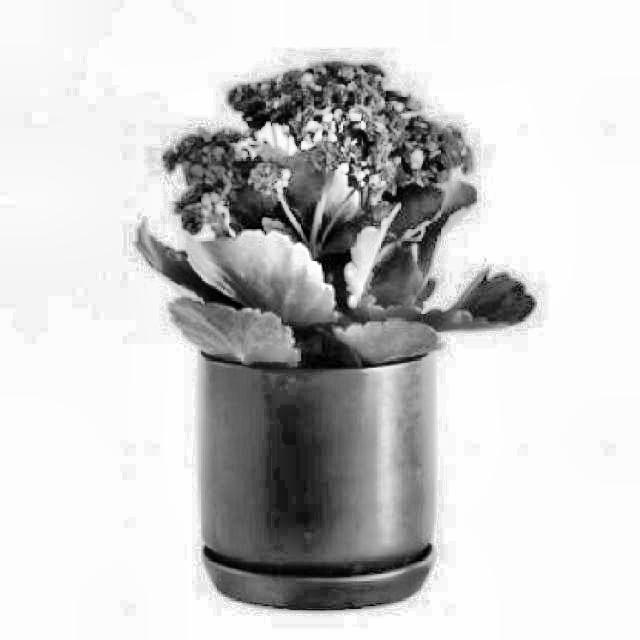plants: (184, 63, 448, 566)
